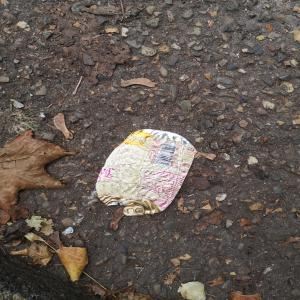Can: (94, 128, 202, 220)
